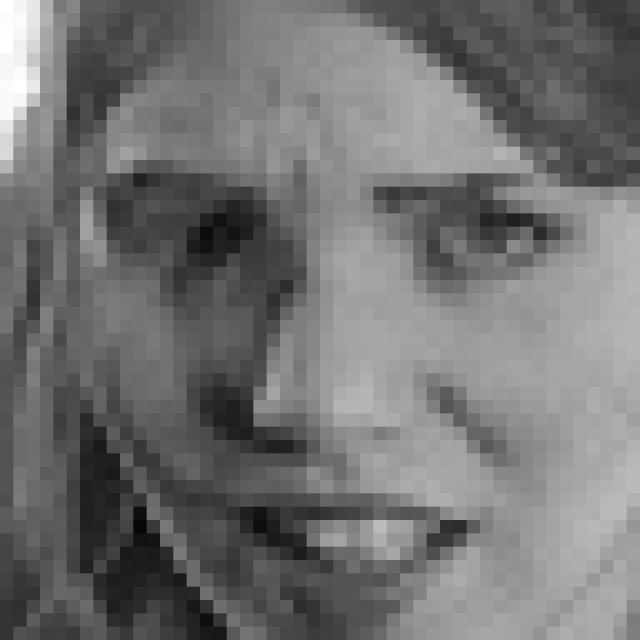disgust: (91, 162, 557, 640)
